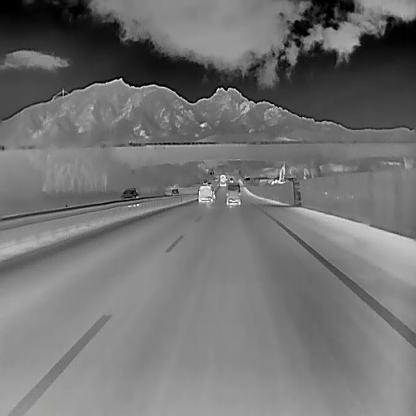car: (119, 187, 139, 207), (225, 181, 240, 205), (198, 184, 211, 202), (169, 186, 179, 198), (219, 173, 227, 186), (210, 189, 215, 199), (229, 176, 234, 184), (202, 179, 206, 184), (207, 181, 211, 186)
